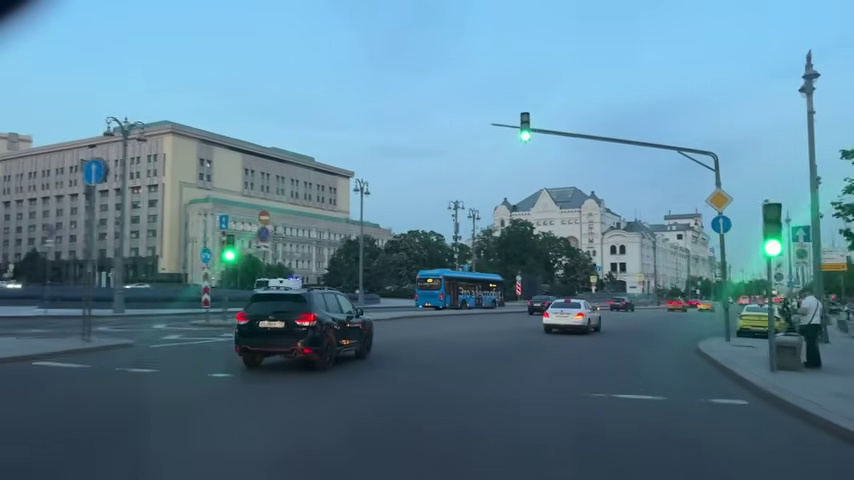apagada: (795, 69, 823, 99)
